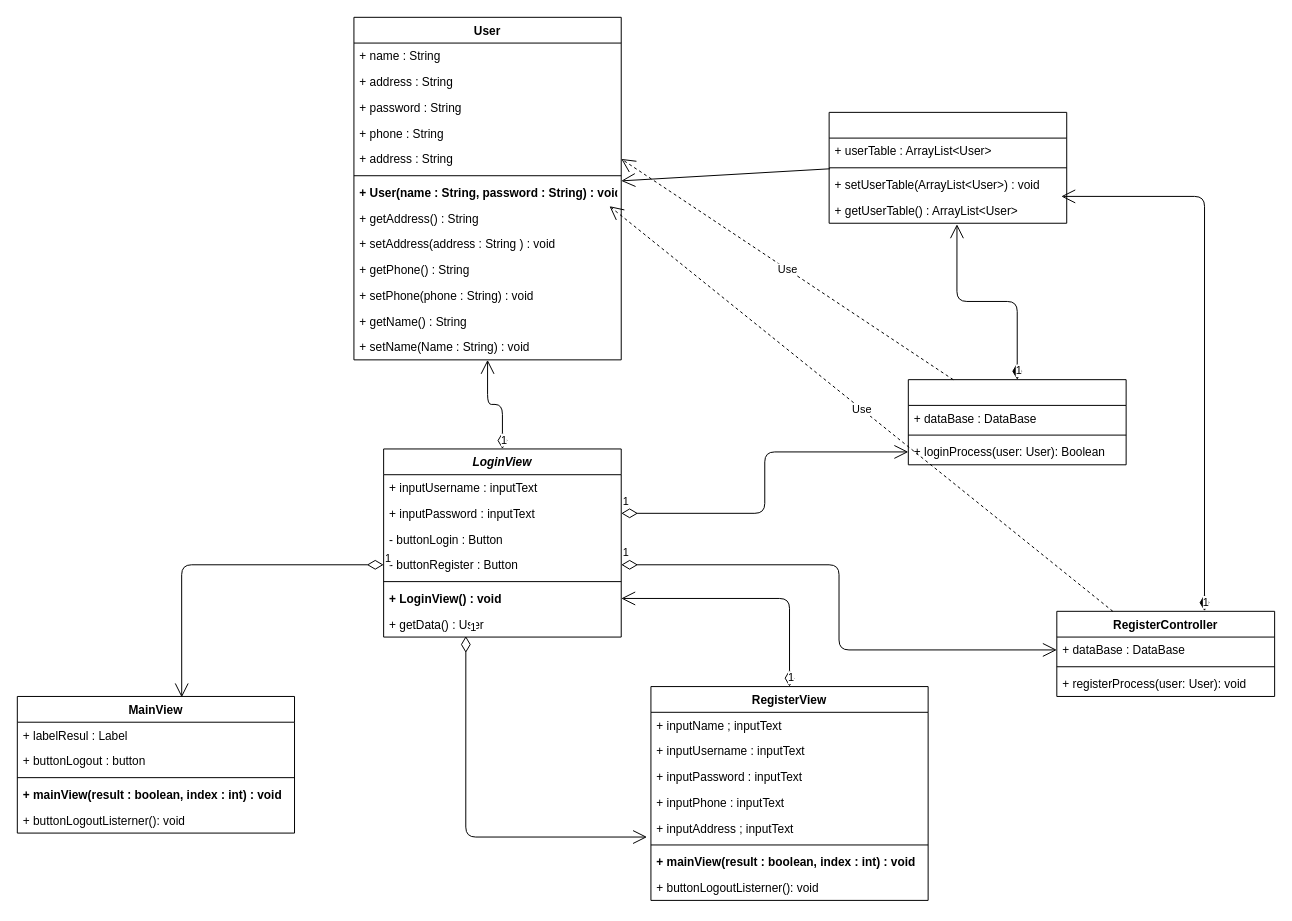
Image size: 1292x921. Some labels were removed from this diagram. The shapes that lost their labels are listed below. From the top down, each one's box as (x1, y1, x2, y2) in pixels, then its label:
(828, 111, 1067, 223): DataBase
(907, 379, 1126, 465): LoginController
